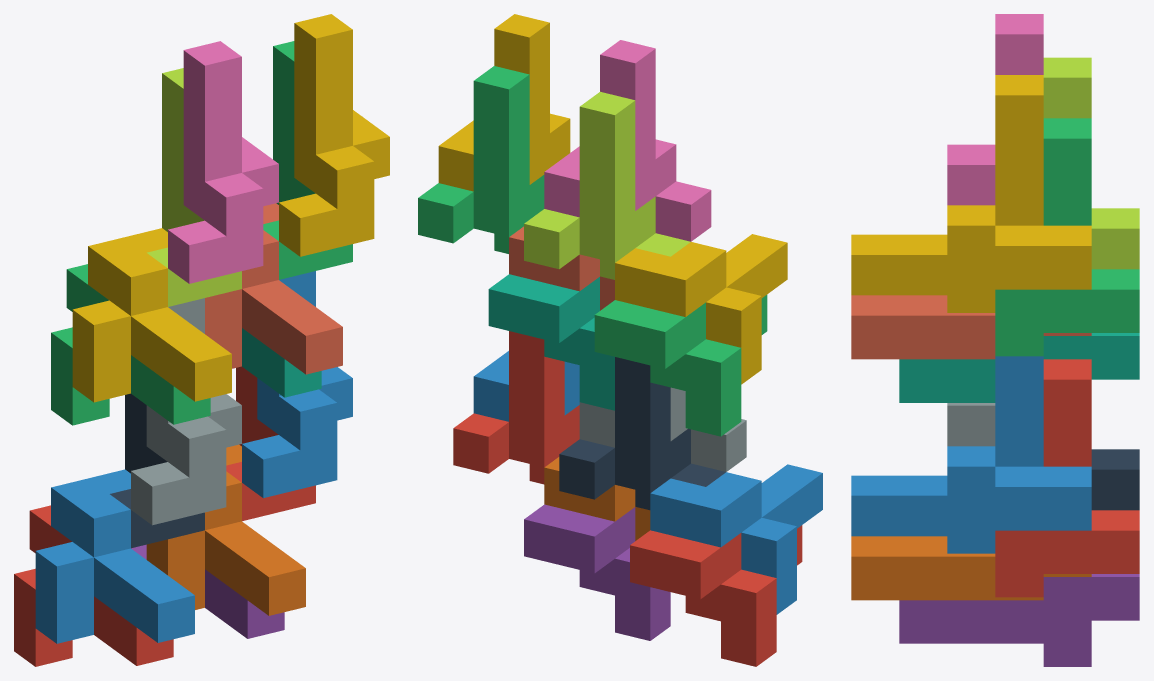
Rendered from tiling.obj.
3 renders of one model, left to right at view 1: azimuth 30°, elevation 25°; view 2: azimuth 150°, elevation 25°; view 3: azimuth 270°, elevation 25°, orthographic. The views are drawn at different scales.
Parts seen in each view (by area): view 1: copy_2_domain_8, copy_2_domain_4, copy_1_domain_2, copy_1_domain_4, copy_1_domain_6, copy_2_domain_2, copy_2_domain_6, copy_1_domain_8, copy_1_domain_1, copy_1_domain_3, copy_2_domain_3, copy_2_domain_7 (+4 smaller); view 2: copy_2_domain_3, copy_1_domain_2, copy_1_domain_4, copy_2_domain_7, copy_1_domain_3, copy_1_domain_1, copy_2_domain_1, copy_2_domain_4, copy_2_domain_5, copy_1_domain_5, copy_1_domain_7, copy_2_domain_8 (+4 smaller); view 3: copy_2_domain_8, copy_2_domain_6, copy_2_domain_5, copy_2_domain_7, copy_1_domain_5, copy_1_domain_6, copy_1_domain_8, copy_1_domain_7, copy_2_domain_3, copy_2_domain_4, copy_1_domain_2, copy_1_domain_4 (+2 smaller).
Boxes of the visible parts, x1,y1,x2,y2 form: copy_2_domain_8: (279, 14, 389, 256); copy_2_domain_4: (168, 41, 278, 283); copy_1_domain_2: (35, 469, 194, 643); copy_1_domain_4: (72, 228, 231, 402); copy_1_domain_6: (146, 444, 305, 615); copy_2_domain_2: (131, 298, 241, 525); copy_2_domain_6: (242, 271, 352, 498); copy_1_domain_8: (205, 203, 342, 374); copy_1_domain_1: (14, 505, 173, 666); copy_1_domain_3: (51, 264, 210, 425); copy_2_domain_3: (147, 68, 241, 306); copy_2_domain_7: (263, 41, 352, 279); copy_2_domain_3: (524, 91, 690, 279); copy_1_domain_2: (650, 464, 822, 614); copy_1_domain_4: (615, 234, 787, 384); copy_2_domain_7: (418, 66, 544, 253); copy_1_domain_3: (594, 295, 767, 436); copy_1_domain_1: (630, 525, 802, 666); copy_2_domain_1: (559, 357, 725, 510); copy_2_domain_4: (544, 40, 711, 241); copy_2_domain_5: (453, 331, 579, 484); copy_1_domain_5: (524, 504, 670, 640); copy_1_domain_7: (488, 274, 614, 410); copy_2_domain_8: (438, 14, 570, 191); copy_2_domain_8: (947, 75, 1091, 312); copy_2_domain_6: (947, 356, 1091, 553); copy_2_domain_5: (995, 359, 1139, 597); copy_2_domain_7: (995, 118, 1139, 356); copy_1_domain_5: (899, 574, 1139, 666); copy_1_domain_6: (851, 536, 1091, 600); copy_1_domain_8: (851, 295, 1091, 359); copy_1_domain_7: (899, 333, 1139, 402); copy_2_domain_3: (1043, 57, 1139, 269); copy_2_domain_4: (947, 14, 1043, 205); copy_1_domain_2: (851, 475, 947, 536); copy_1_domain_4: (851, 234, 947, 295).
Size of the model in its own units: 9 by 15 by 6.
